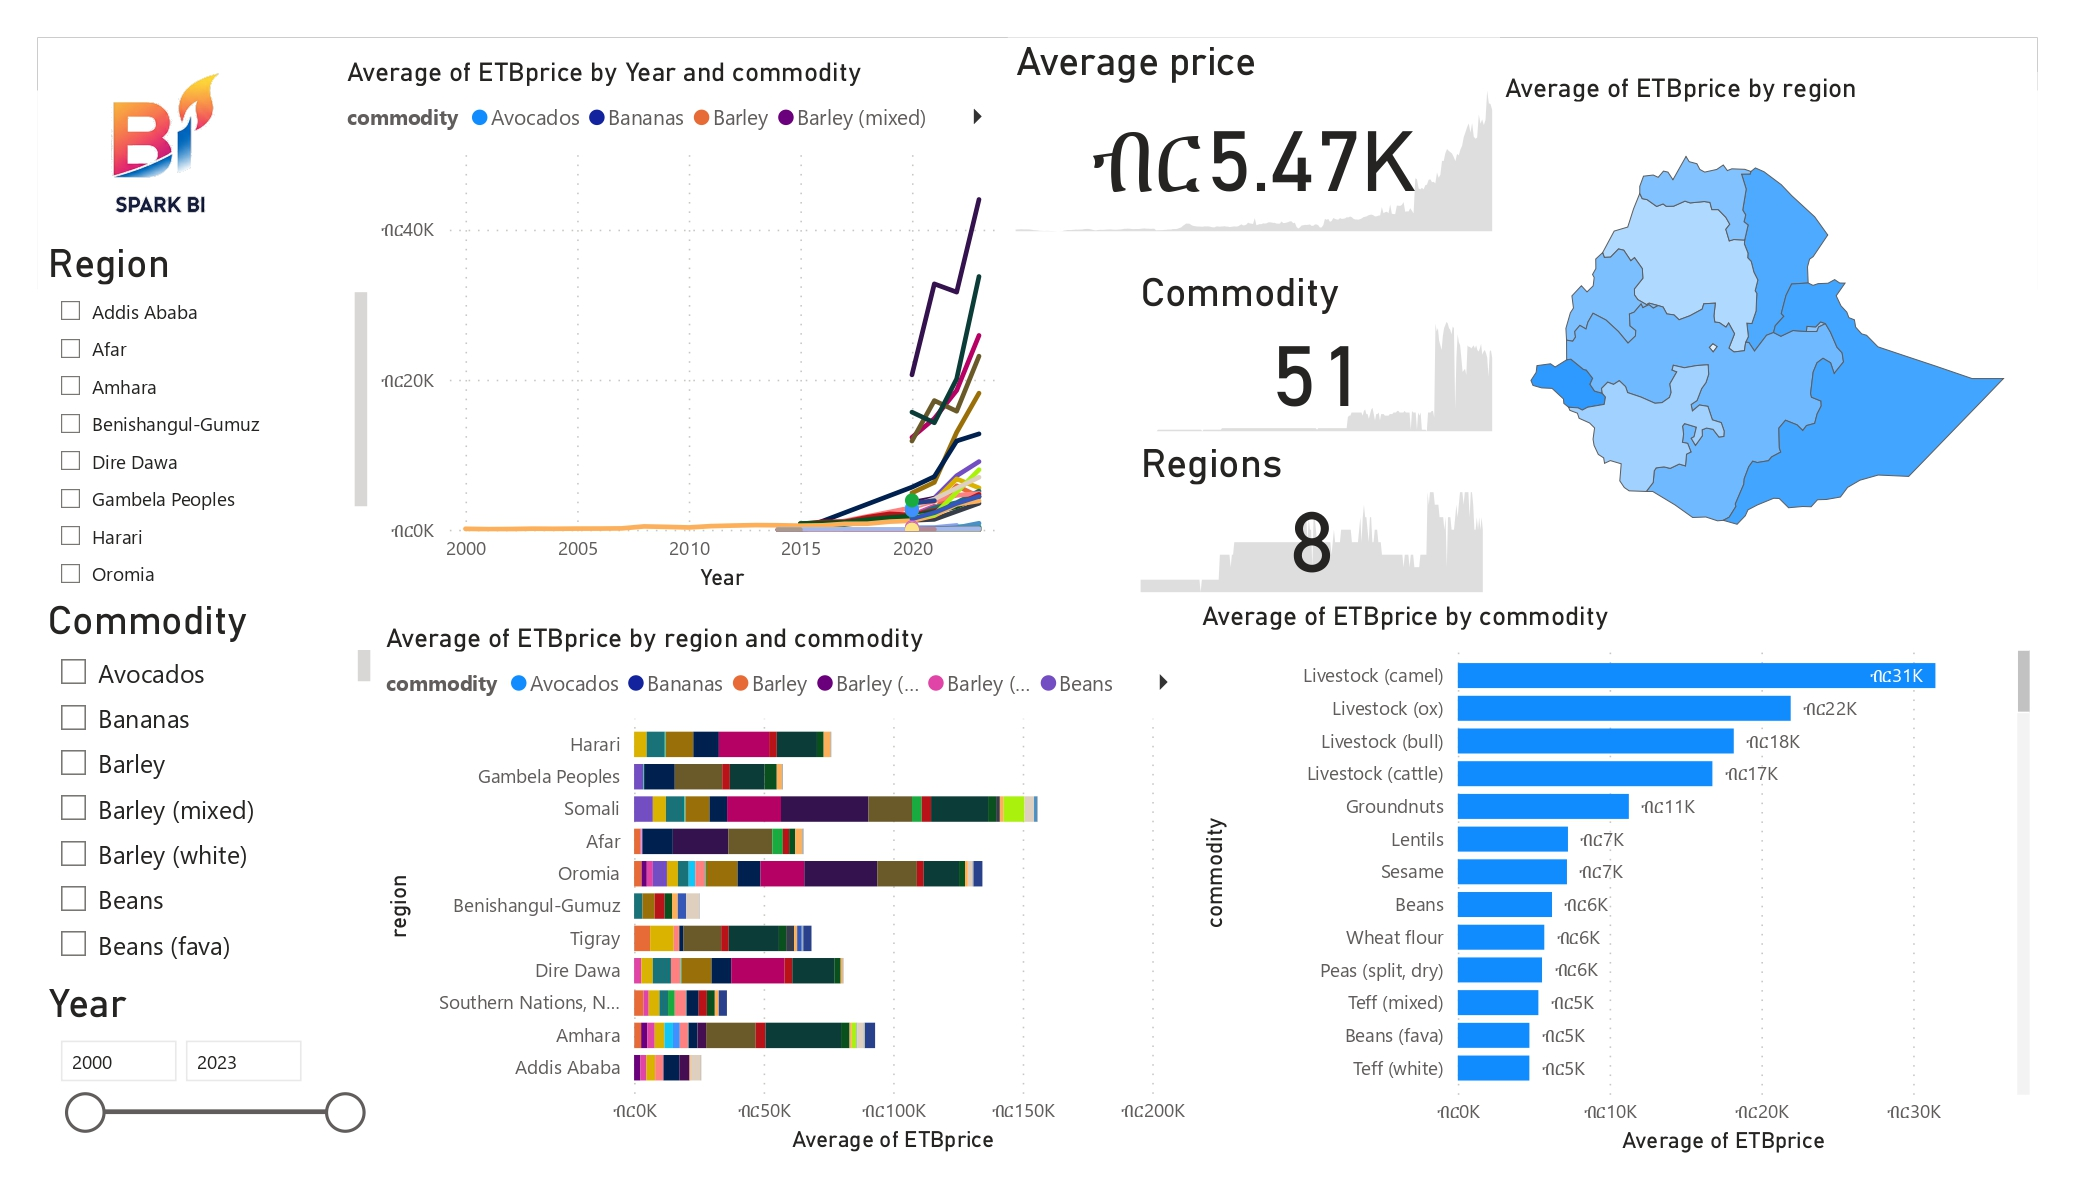

The dashboard page shown, as its layout file describes it:
{"tool":"powerbi","page":{"name":"Main Dashboard","canvas":[1280,720],"ordinal":0},"visuals":[{"type":"barChart","fields":{"Category":["wfp_food_prices_eth.region"],"Y":["Avg(wfp_food_prices_eth.ETBprice)"],"Series":["wfp_food_prices_eth.commodity"]},"box":[218,373.8,521.7,344.2],"z":0},{"type":"barChart","fields":{"Category":["wfp_food_prices_eth.commodity"],"Y":["Avg(wfp_food_prices_eth.ETBprice)"]},"box":[739.7,359.7,540.4,359.7],"z":1000},{"type":"lineChart","fields":{"Category":["wfp_food_prices_eth.date.Variation.Date Hierarchy.Year","wfp_food_prices_eth.date.Variation.Date Hierarchy.Quarter","wfp_food_prices_eth.date.Variation.Date Hierarchy.Month","wfp_food_prices_eth.date.Variation.Date Hierarchy.Day"],"Y":["Avg(wfp_food_prices_eth.ETBprice)"],"Series":["wfp_food_prices_eth.commodity"]},"box":[193.1,12.5,428.3,345.7],"z":2000},{"type":"shapeMap","fields":{"Value":["Avg(wfp_food_prices_eth.ETBprice)"],"Category":["wfp_food_prices_eth.region"]},"box":[934.4,21.8,345.7,325.5],"z":3000},{"type":"kpi","title":"Average price ","fields":{"Indicator":["Avg(wfp_food_prices_eth.ETBprice)"],"TrendLine":["wfp_food_prices_eth.date"]},"box":[621.4,0,314.6,129.3],"z":4000},{"type":"kpi","title":"Regions","fields":{"TrendLine":["wfp_food_prices_eth.date"],"Indicator":["Count(wfp_food_prices_eth.region)"]},"box":[700.8,257,228.9,102.8],"z":5000},{"type":"slicer","title":"Region","fields":{"Values":["wfp_food_prices_eth.region"]},"box":[1.6,129.3,214.9,228.9],"z":6000},{"type":"kpi","title":"Commodity","fields":{"Indicator":["Count(wfp_food_prices_eth.commodity)"],"TrendLine":["wfp_food_prices_eth.date"]},"box":[700.8,147.9,235.2,109],"z":7000},{"type":"slicer","title":"Commodity","fields":{"Values":["wfp_food_prices_eth.commodity"]},"box":[1.6,358.2,216.5,244.5],"z":8000},{"type":"slicer","title":"Year","fields":{"Values":["wfp_food_prices_eth.date.Variation.Date Hierarchy.Year"]},"box":[1.6,602.7,216.5,116.8],"z":9000},{"type":"image","box":[0,0,165.1,147.9],"z":10000}]}

Visuals, with their boxes in screenshot pixels (x1, y1, x2, y2):
barChart - wfp_food_prices_eth.region x Avg(wfp_food_prices_eth.ETBprice): (left=378, top=622, right=1193, bottom=1159)
barChart - wfp_food_prices_eth.commodity x Avg(wfp_food_prices_eth.ETBprice): (left=1193, top=600, right=2038, bottom=1162)
lineChart - wfp_food_prices_eth.date.Variation.Date Hierarchy.Year x wfp_food_prices_eth.date.Variation.Date Hierarchy.Quarter: (left=339, top=57, right=1008, bottom=597)
shapeMap - Avg(wfp_food_prices_eth.ETBprice) x wfp_food_prices_eth.region: (left=1498, top=72, right=2038, bottom=580)
"Average price " kpi: (left=1008, top=38, right=1500, bottom=240)
"Regions" kpi: (left=1132, top=439, right=1490, bottom=600)
"Region" slicer: (left=40, top=240, right=376, bottom=597)
"Commodity" kpi: (left=1132, top=269, right=1500, bottom=439)
"Commodity" slicer: (left=40, top=597, right=378, bottom=979)
"Year" slicer: (left=40, top=979, right=378, bottom=1162)
image: (left=38, top=38, right=295, bottom=269)
